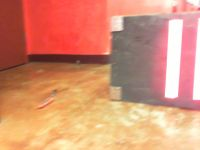switch: (164, 19, 184, 99), (192, 18, 200, 100)
